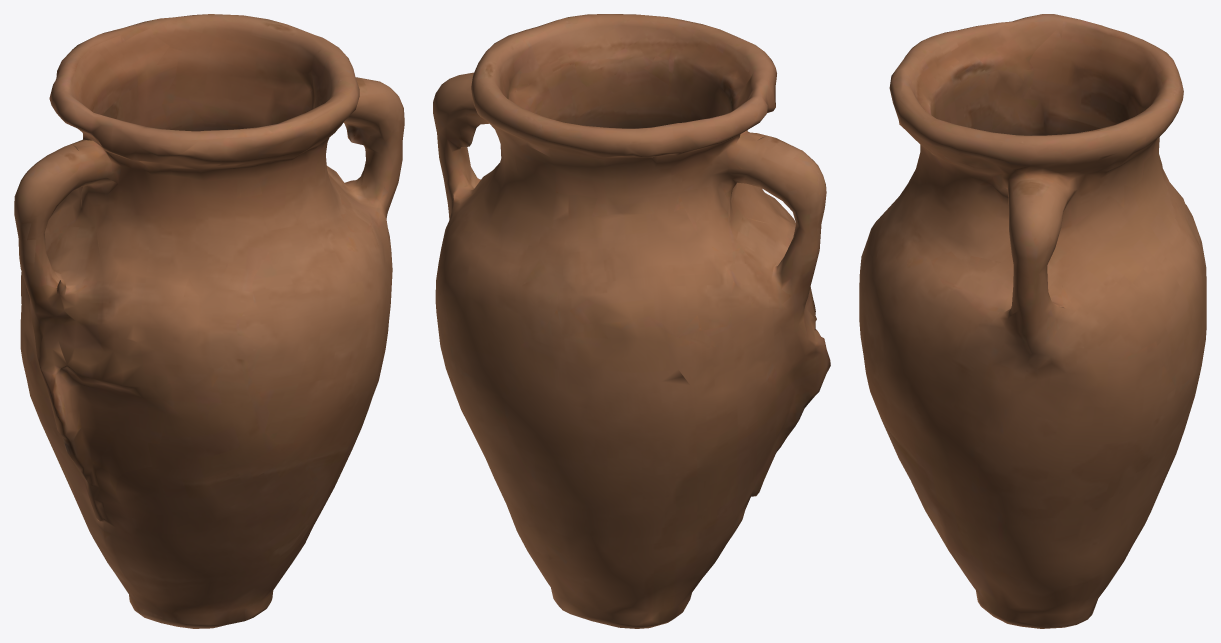
File: PotAmphora.glb
3 views of the same model, side by side, from view 1: azimuth 30°, elevation 25°; view 2: azimuth 150°, elevation 25°; view 3: azimuth 270°, elevation 25° (orthographic).
Visible parts, largest first — view 1: PotAmphora; view 2: PotAmphora; view 3: PotAmphora.
Boxes of the visible parts, x1,y1,x2,y2 form: PotAmphora: (14, 14, 404, 628); PotAmphora: (433, 14, 830, 628); PotAmphora: (859, 14, 1206, 628).
Bounding box in the file's own units: 0.7217 × 0.9597 × 0.5684.
Materials: 1 (1 with a texture image).
